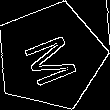M_E: (18, 25, 83, 87)
